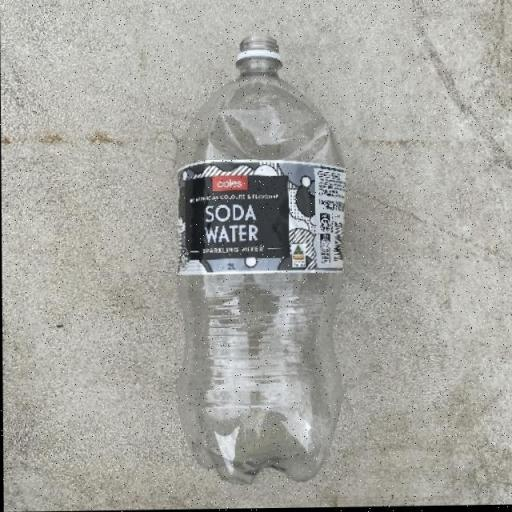plastic: (172, 32, 348, 486)
